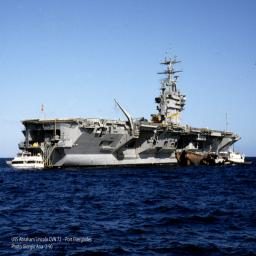Portanaves: (19, 40, 243, 171)
